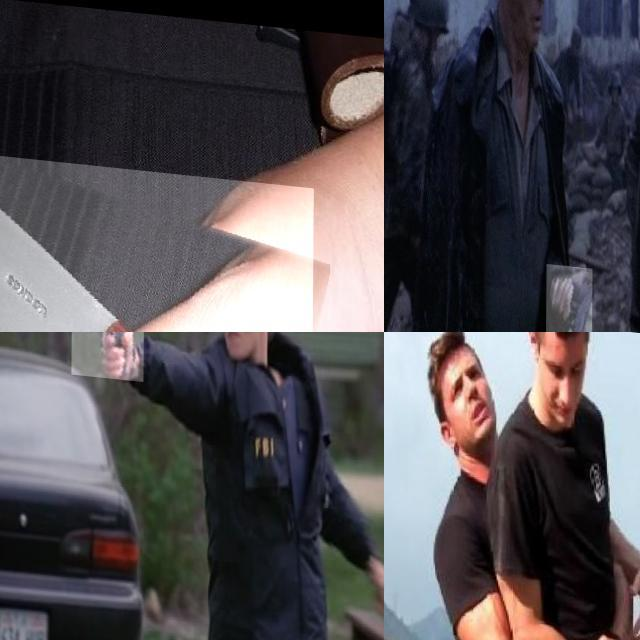-: (0, 138, 314, 332)
gun-knife-thesis - v11 Yolov5 augmented: (71, 332, 144, 381), (546, 259, 593, 332)
